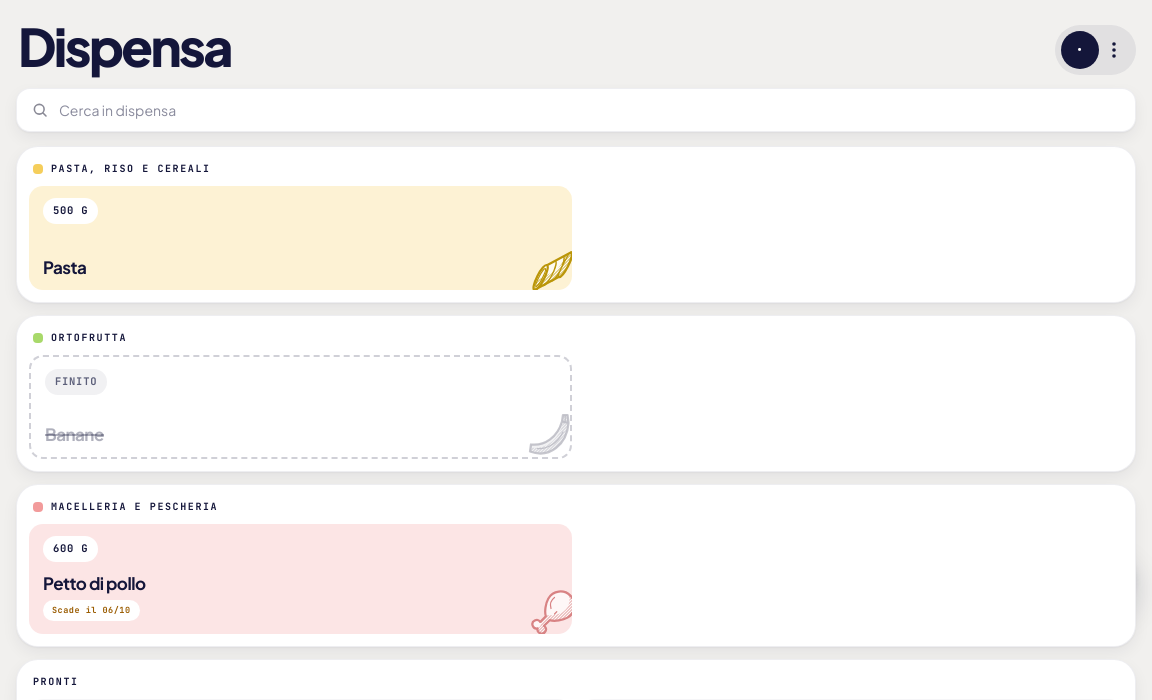
it: Dispensa: la ricerca › filtra widget e tessere, mostra i mai comprati e il contatore; la X torna alla pagina
This screenshot has width=1152, height=700.
Expected: the button with aria-label "Apri Petto di pollo" is shown, [29,524,572,634]
Type "pa" into the field labelled "Cerca in dispensa".
click(590, 110); type("pa")  # box [59,100,1121,120]
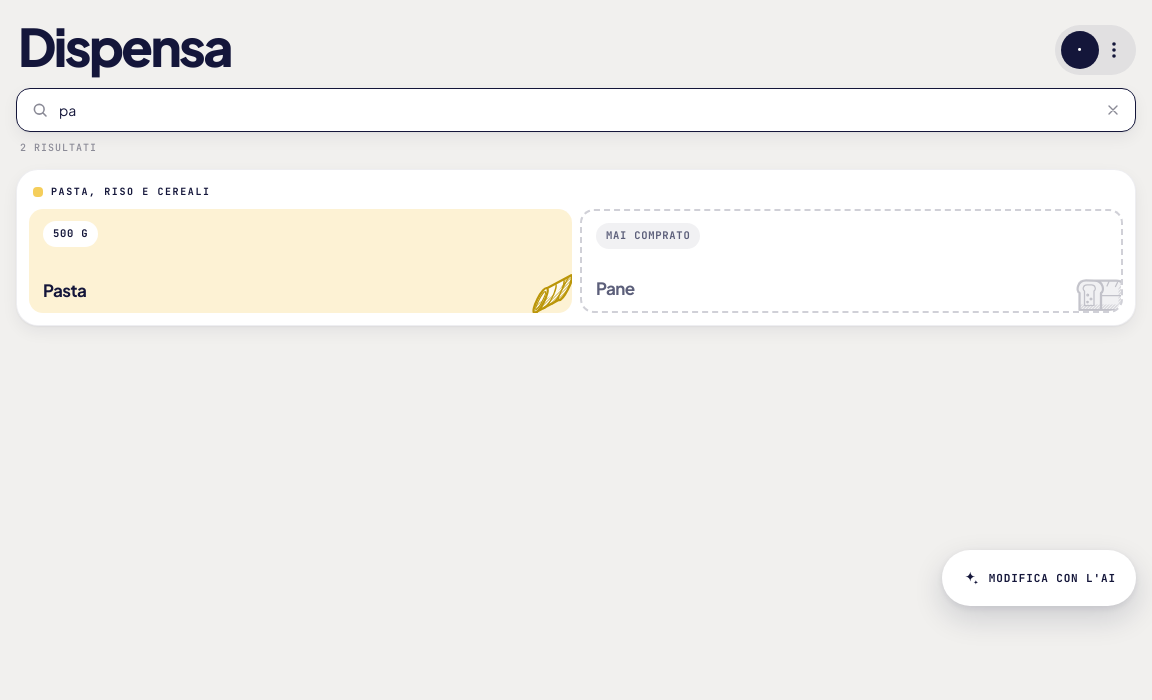
Expected: the button with aria-label "Apri Pasta" is shown, [29,209,572,313]
Expected: the button with aria-label "Apri Pane" shows "Mai comprato", [580,209,1123,313]
Expected: the text "2 risultati" is shown, [20,141,97,154]
Click the button named "Svuota la ricerca".
click(1113, 110)  # box [1093,90,1133,130]
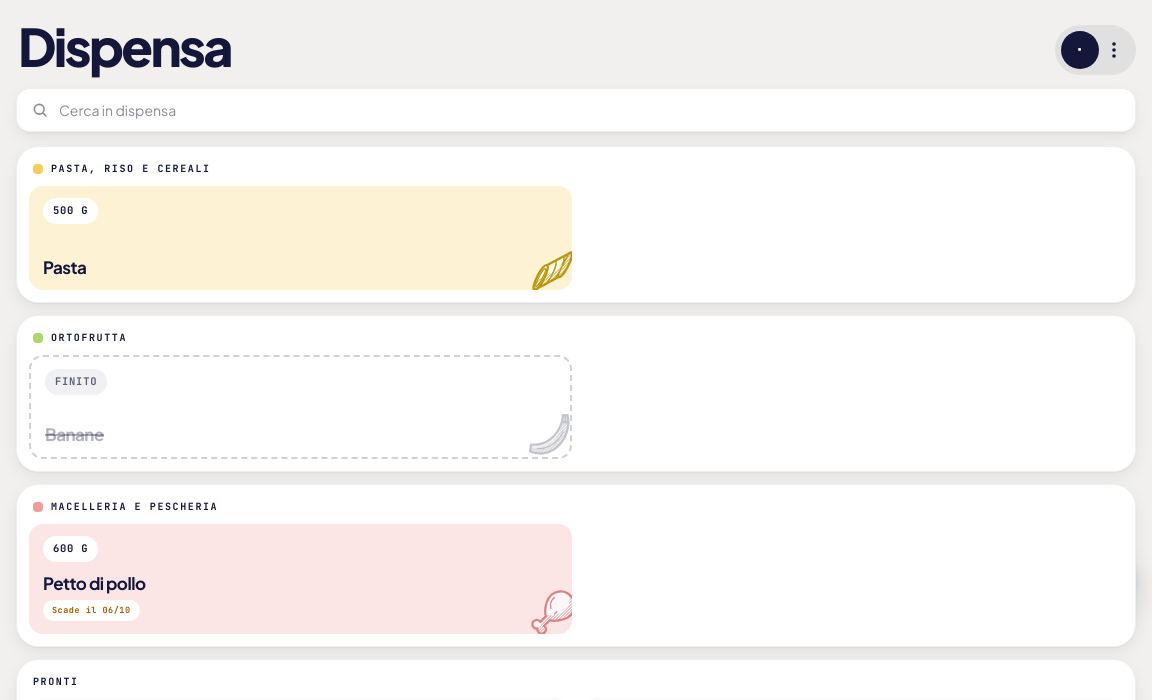
Expected: the field labelled "Cerca in dispensa" is empty, [59,100,1121,120]
Expected: the button with aria-label "Apri Petto di pollo" is shown, [29,524,572,634]
Expected: the text "risultat" is gone
